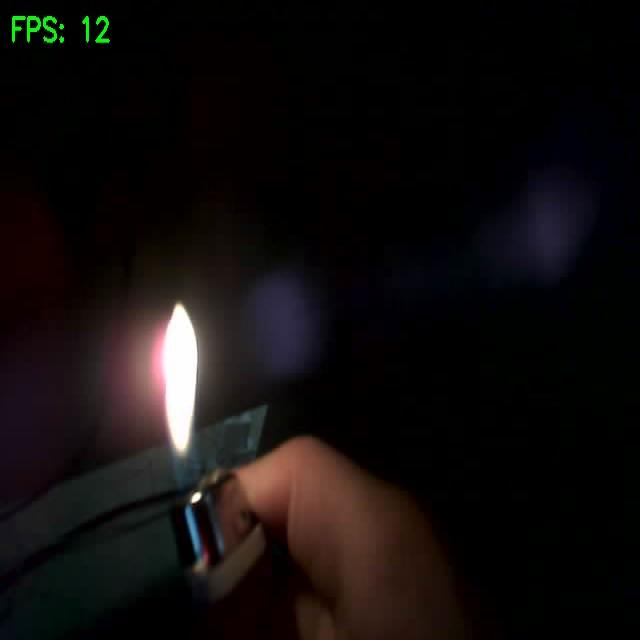fire: (162, 304, 197, 453), (190, 491, 201, 503)
